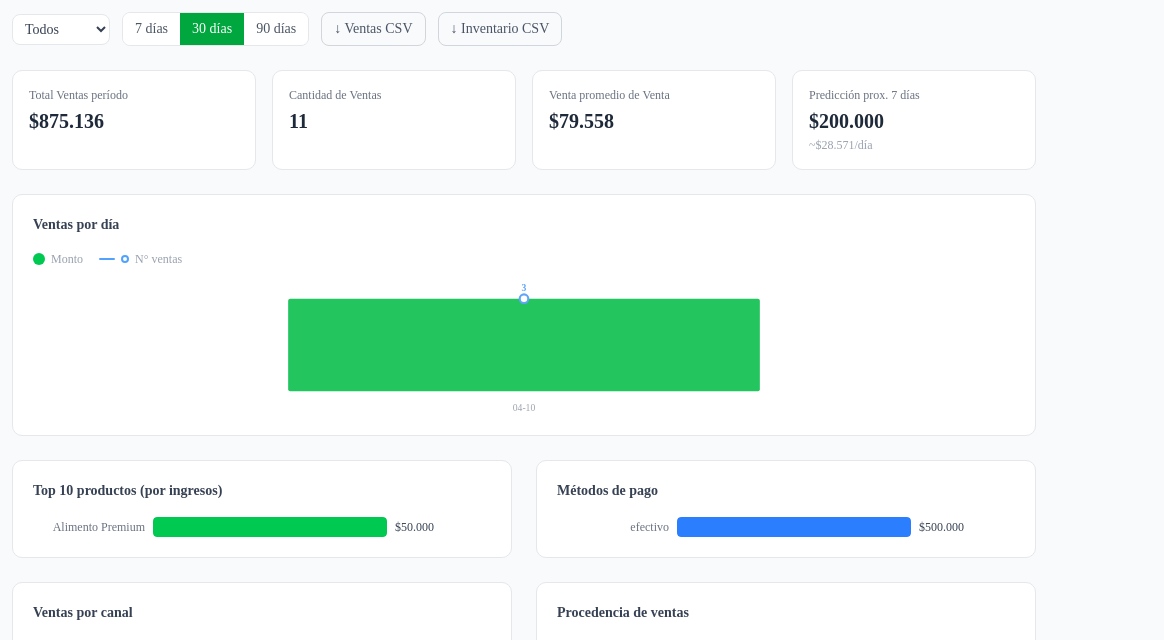
ReportesTab — export CSV › RC-16: si la API rechaza (403) muestra el error y no descarga nada
expect the text "Total Ventas período" is shown: met, box [29,88,128,102]
Click the button "↓ Ventas CSV".
click(373, 29)  # box [321,12,426,46]
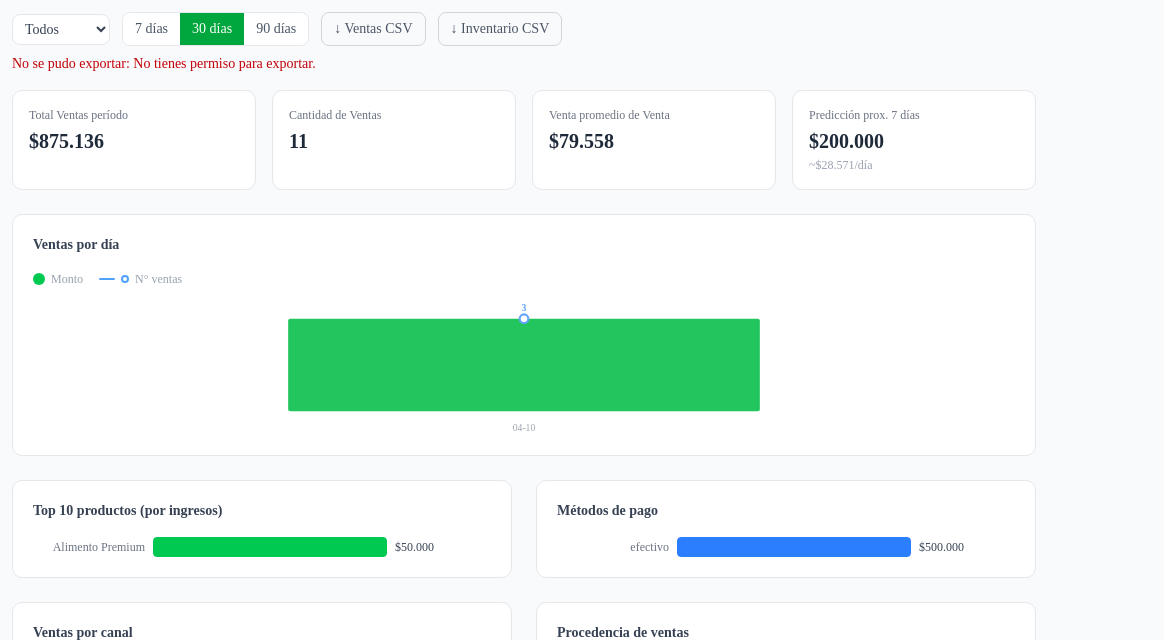
expect the message reads "No se pudo exportar: No tienes permiso para exportar.": met, box [12,56,316,71]
